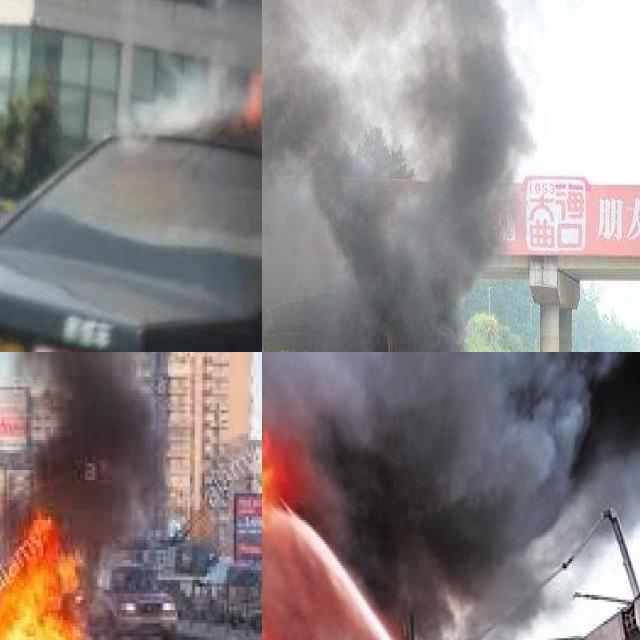fire: (0, 506, 94, 640), (262, 426, 298, 525), (242, 43, 262, 145)
smoke: (262, 352, 640, 640), (262, 0, 530, 352), (0, 352, 150, 543), (124, 57, 239, 144)
